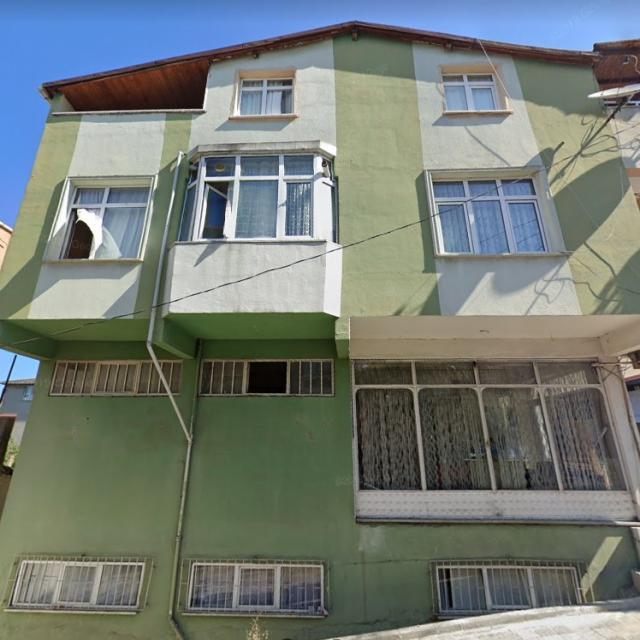Building: (0, 20, 640, 640)
